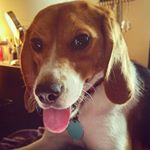puppy: (17, 1, 139, 150)
